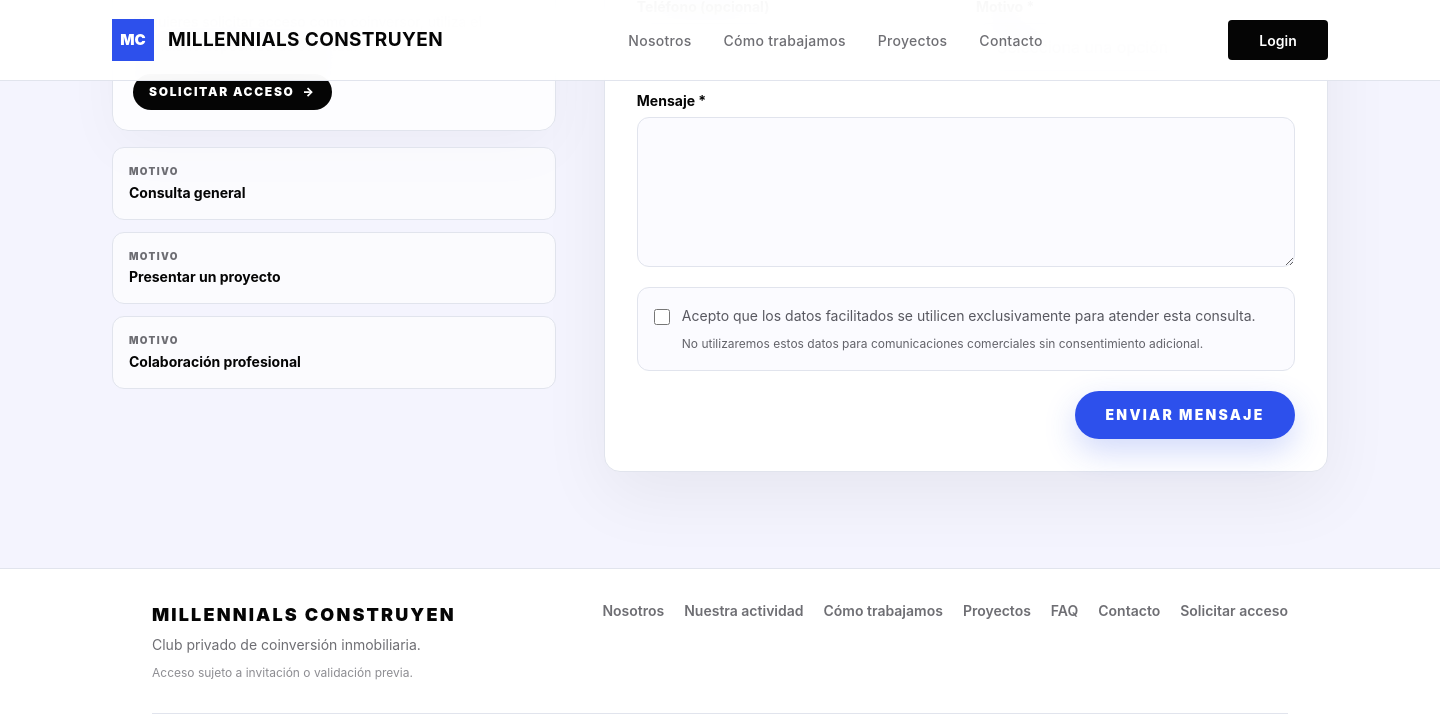
it: ContactSection form › validates required fields and shows alert when empty form is submitted
(page scrolled)
What coordinates should you click on to do the following:
click the button "Enviar mensaje"
I would click on:
 (1185, 415)
Its box is x1=1075 y1=391 x2=1295 y2=439.
(page scrolled)
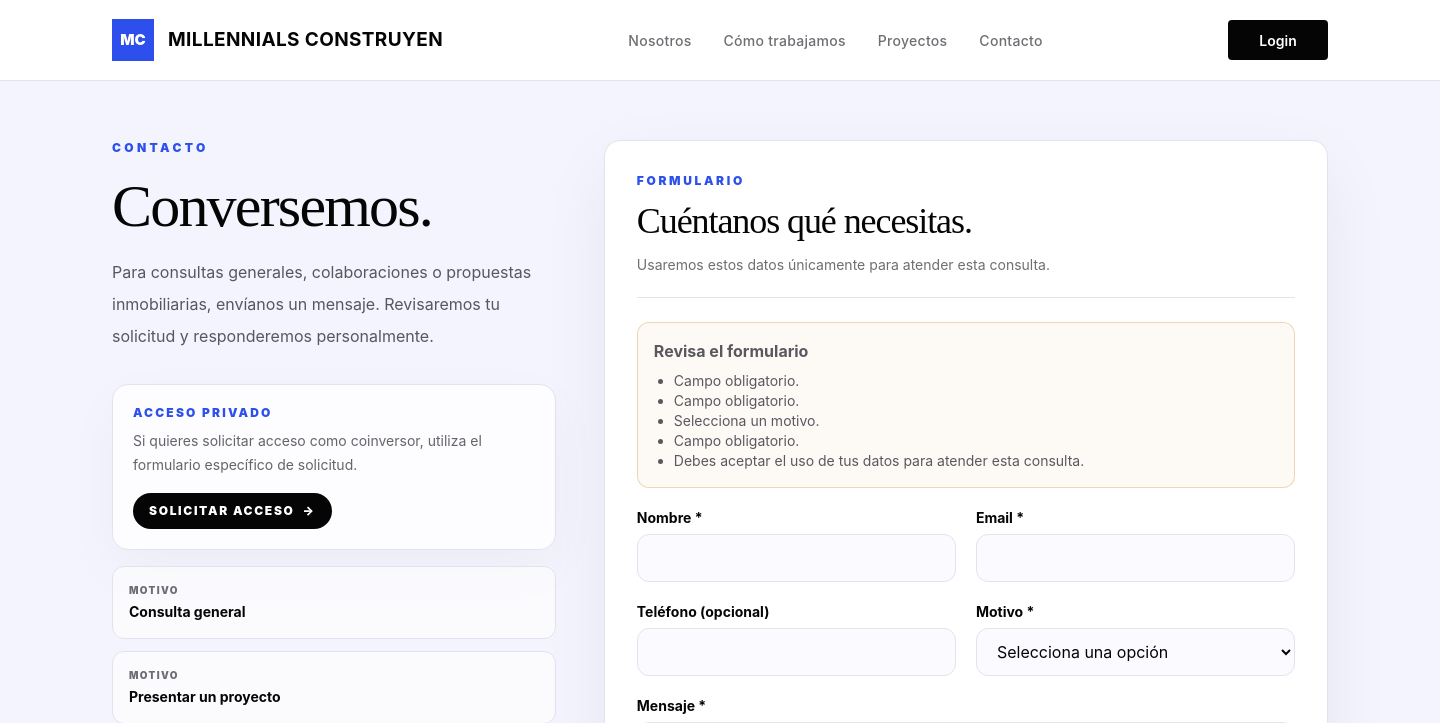
Expected: the message shows "Campo obligatorio", x1=674 y1=372 x2=799 y2=389
